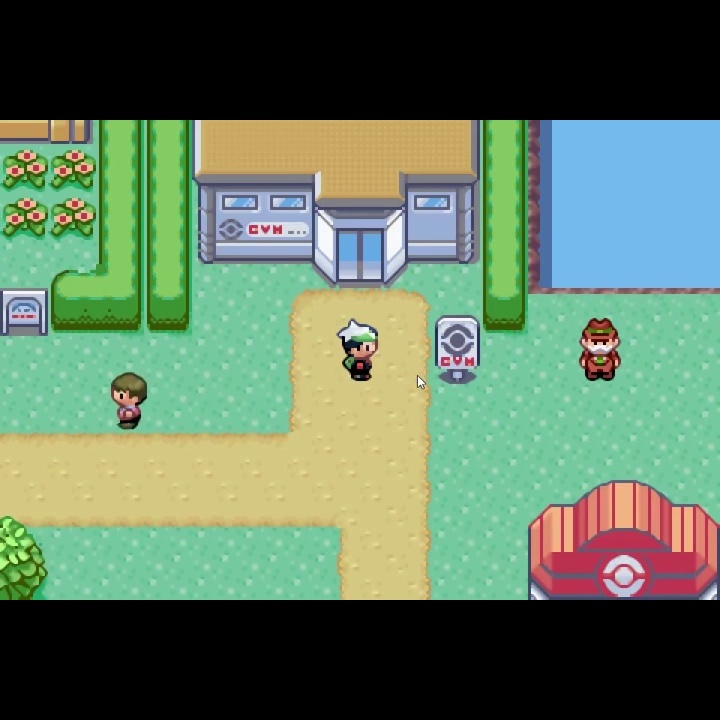gym: (190, 120, 482, 291)
npc: (576, 314, 624, 387), (337, 316, 380, 384), (109, 369, 149, 435)
pokecen: (523, 480, 720, 599)
wall: (1, 514, 48, 600)
